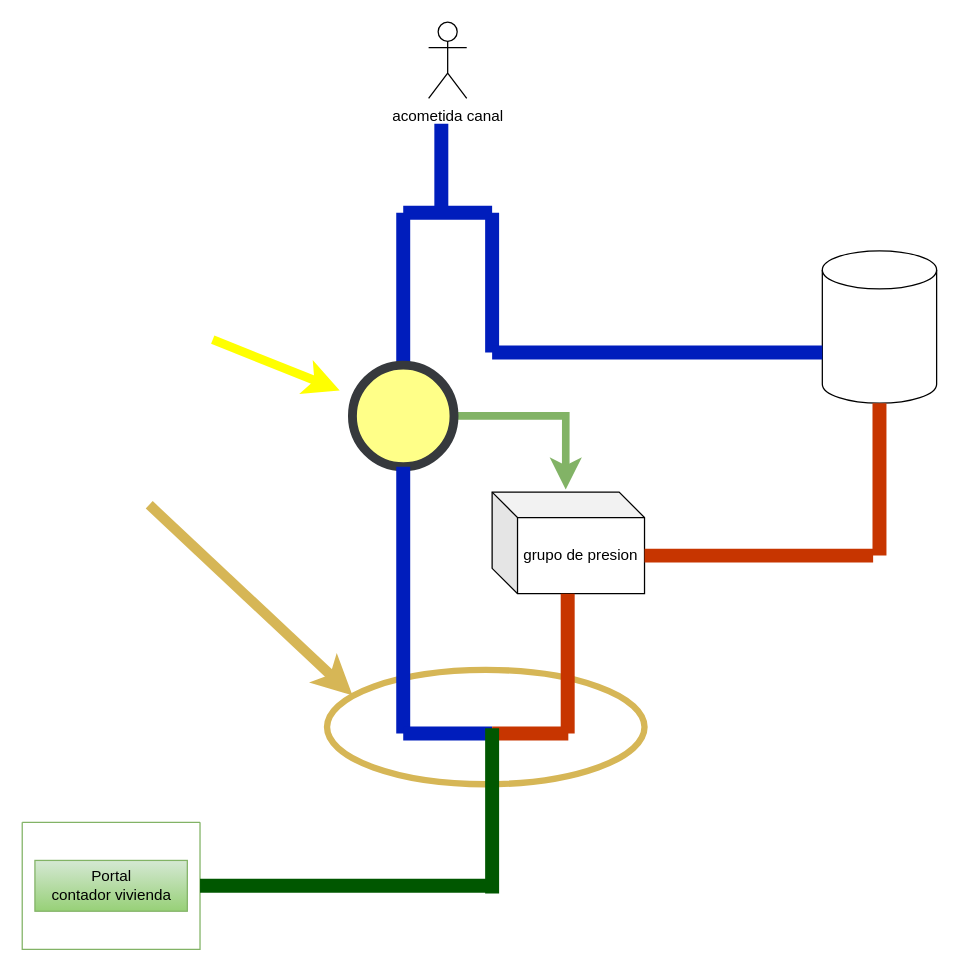
Image size: 959x972. Some labels were removed from this diagram. The shapes that lost their labels are listed below. From the top down, each one's box as (x1, y1, x2, y2) in pixels, then its label:
(821, 250, 937, 403): aljibe
(347, 360, 458, 471): valvula presion
